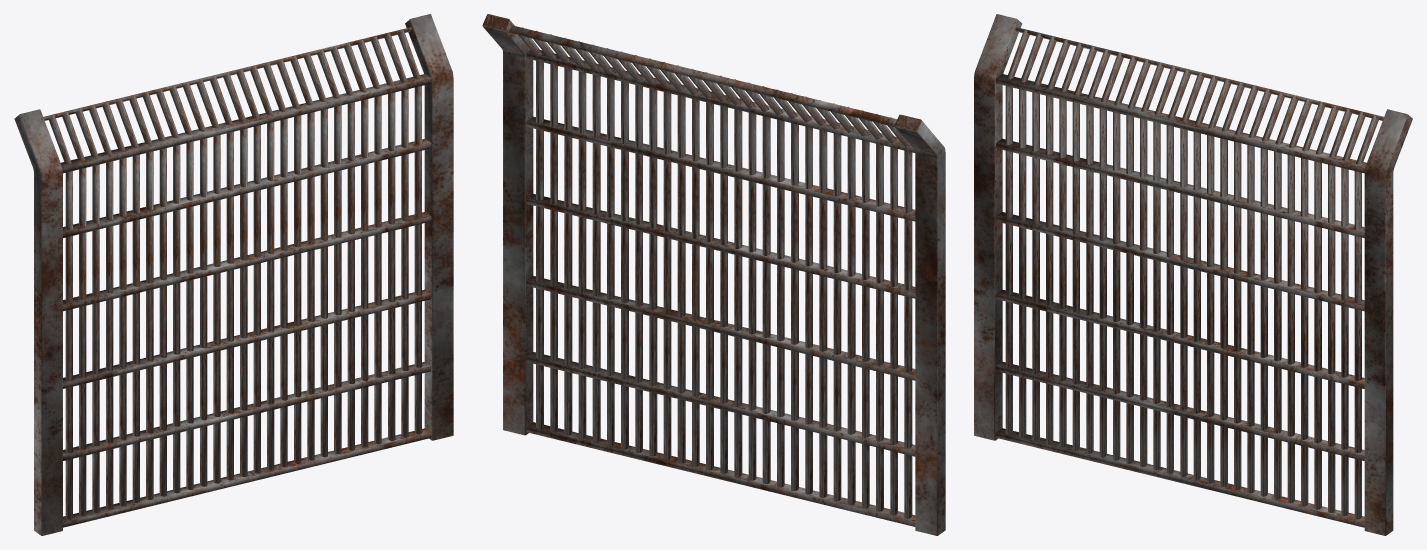
The model's file is fence3.obj.
3 renders of one model, left to right at view 1: azimuth 30°, elevation 25°; view 2: azimuth 150°, elevation 25°; view 3: azimuth 330°, elevation 25°, orthographic. The views are drawn at different scales.
Parts seen in each view (by area): view 1: Cylinder09.001_Cylinder09.002, Cylinder09; view 2: Cylinder09.001_Cylinder09.002, Cylinder09; view 3: Cylinder09.001_Cylinder09.002, Cylinder09.
Boxes of the visible parts, <box> form: Cylinder09.001_Cylinder09.002: <box>49,30,421,519</box>; Cylinder09: <box>14,14,453,535</box>; Cylinder09.001_Cylinder09.002: <box>518,27,912,518</box>; Cylinder09: <box>482,14,945,535</box>; Cylinder09.001_Cylinder09.002: <box>1005,30,1378,519</box>; Cylinder09: <box>974,14,1412,535</box>.
Bounding box in the file's own units: 5.08 × 4.77 × 0.5862.
